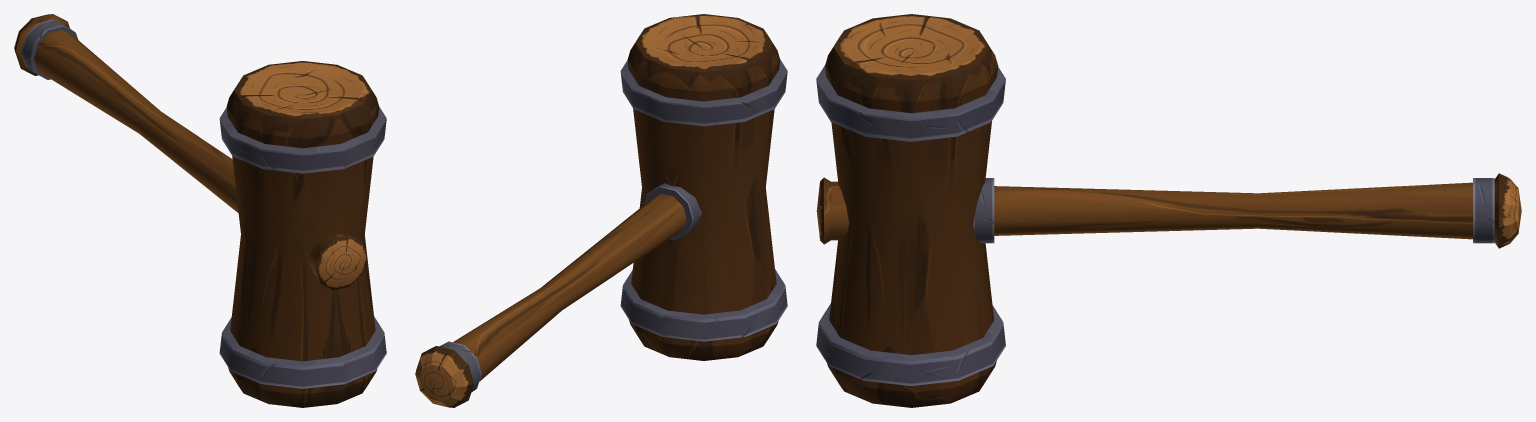
File: hammer_texture.FBX
3 views of the same model, side by side, from view 1: azimuth 30°, elevation 25°; view 2: azimuth 150°, elevation 25°; view 3: azimuth 270°, elevation 25° (orthographic). The views are drawn at different scales.
Parts seen in each view (by area): view 1: hammer, steel, ring003, ring1, ringup002; view 2: hammer, steel, ring003, ring1, ringup, ringup002; view 3: hammer, steel, ring003, ring1, ringup002, ringup.
Part boxes in pixels (x1,y1,x2,y2): hammer: [226, 61, 379, 407]; steel: [14, 14, 367, 290]; ring003: [219, 316, 386, 388]; ring1: [219, 107, 386, 173]; ringup002: [21, 19, 78, 79]; hammer: [627, 14, 780, 360]; steel: [415, 193, 686, 407]; ring003: [620, 269, 787, 341]; ring1: [620, 59, 787, 126]; ringup: [643, 183, 701, 240]; ringup002: [439, 341, 481, 392]; hammer: [825, 14, 998, 407]; steel: [816, 173, 1521, 248]; ring003: [816, 303, 1005, 385]; ring1: [816, 65, 1005, 141]; ringup002: [1473, 178, 1494, 243]; ringup: [973, 178, 994, 243].
Size of the model in its own units: 71.7 by 138 by 267.
Materials: 1 (1 with a texture image).
